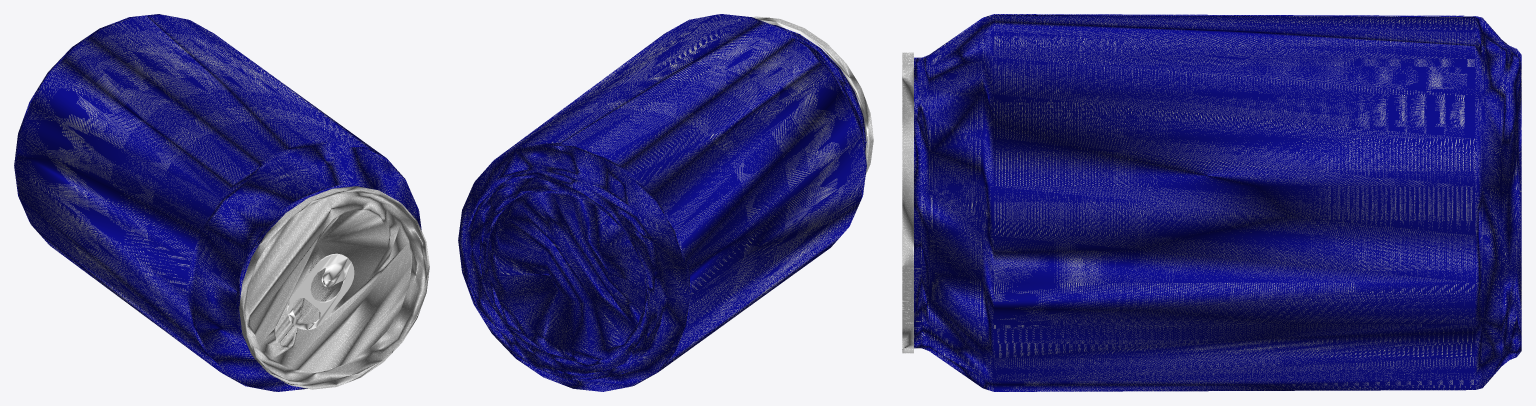
The model's file is model_align.obj.
The picture shows the model from 3 angles, left to right: view 1: azimuth 30°, elevation 25°; view 2: azimuth 150°, elevation 25°; view 3: azimuth 270°, elevation 25°; orthographic projection. The views are drawn at different scales.
Size of the model in its own units: 0.062 by 0.062 by 0.1011.
